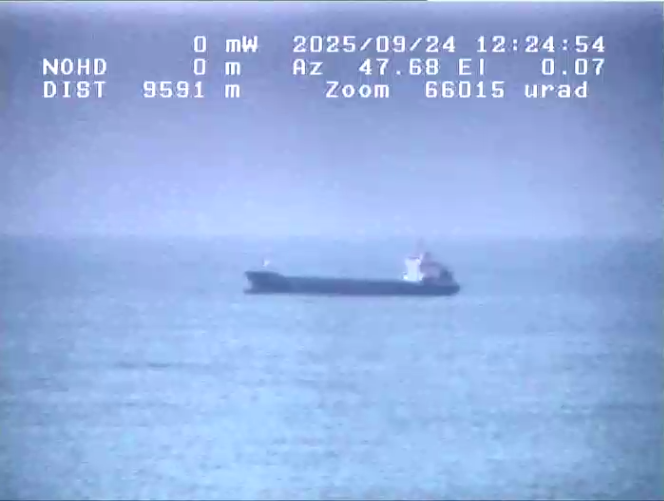TANKER: (237, 233, 479, 311)
